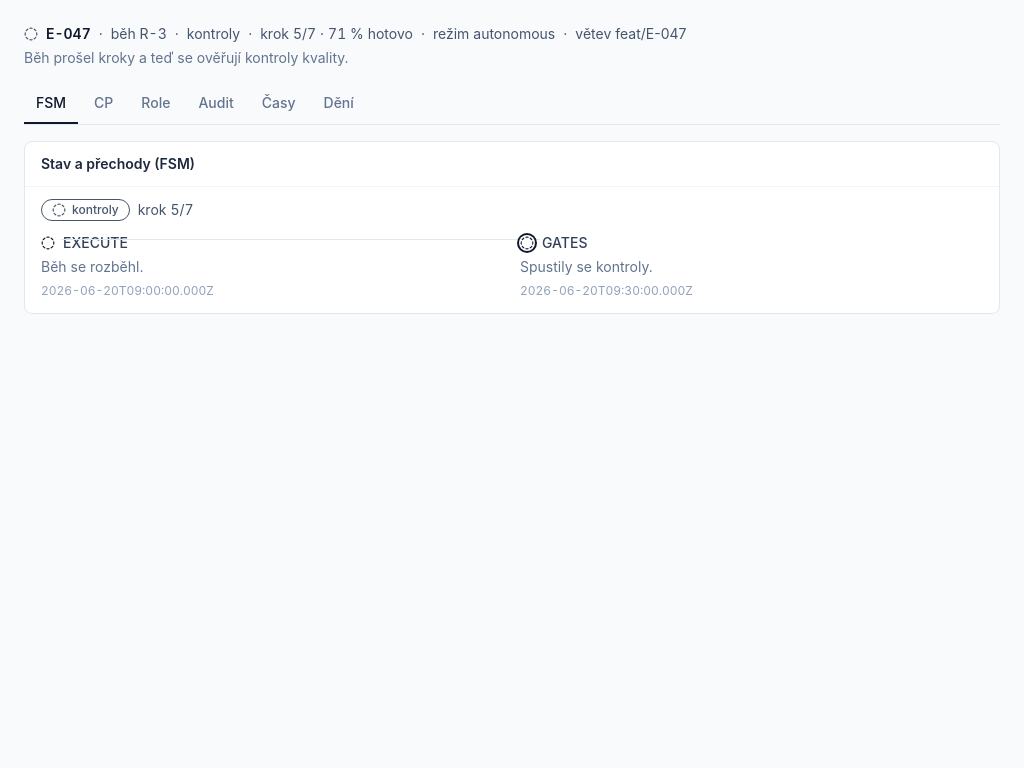
Test case: ScreenC — EPIC deep view (v3 run) › Audit tab renders the per-run AuditSummaryCard + EPIC-scope trend
Check: the element showing "FSM CP Role Audit Časy Dění" is shown, box [24,84,1000,125]
Step 1. Click the tab "Audit" → point(216, 104), box [186,84,246,124]
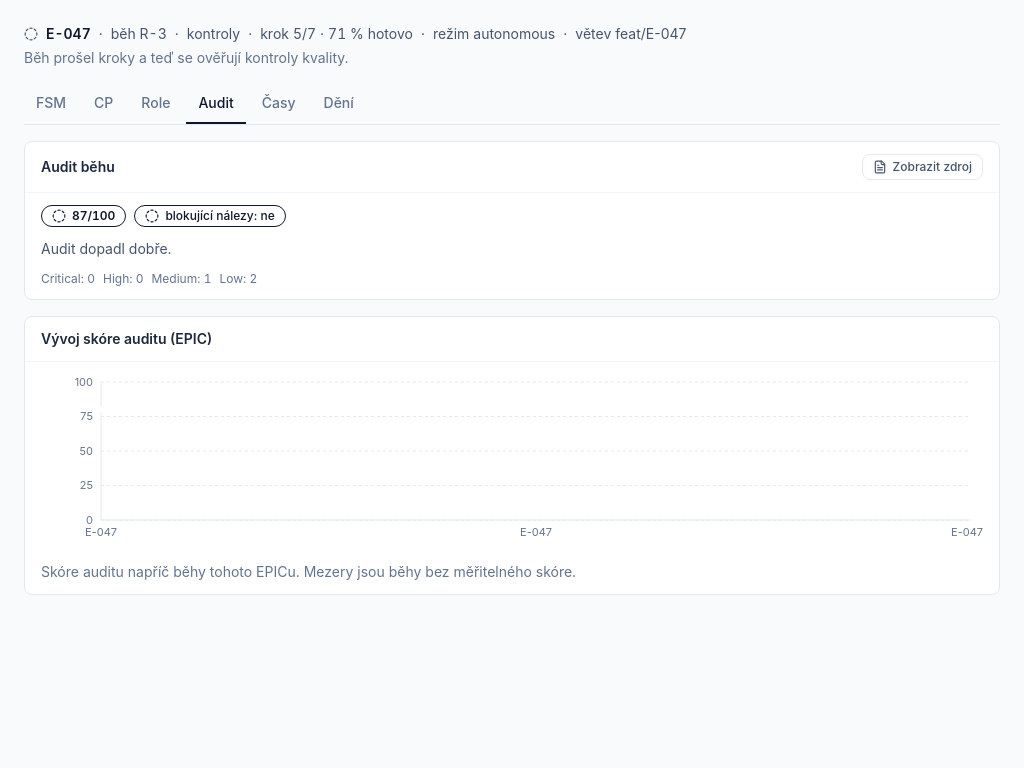
Check: the element that starts with "Audit běhu" is shown, box [24,141,1000,595]
Check: the text "87/100" is shown, box [41,205,126,227]
Check: the element showing "E-047 E-047 E-047 0 25 50 75 100" is shown, box [41,374,983,554]
